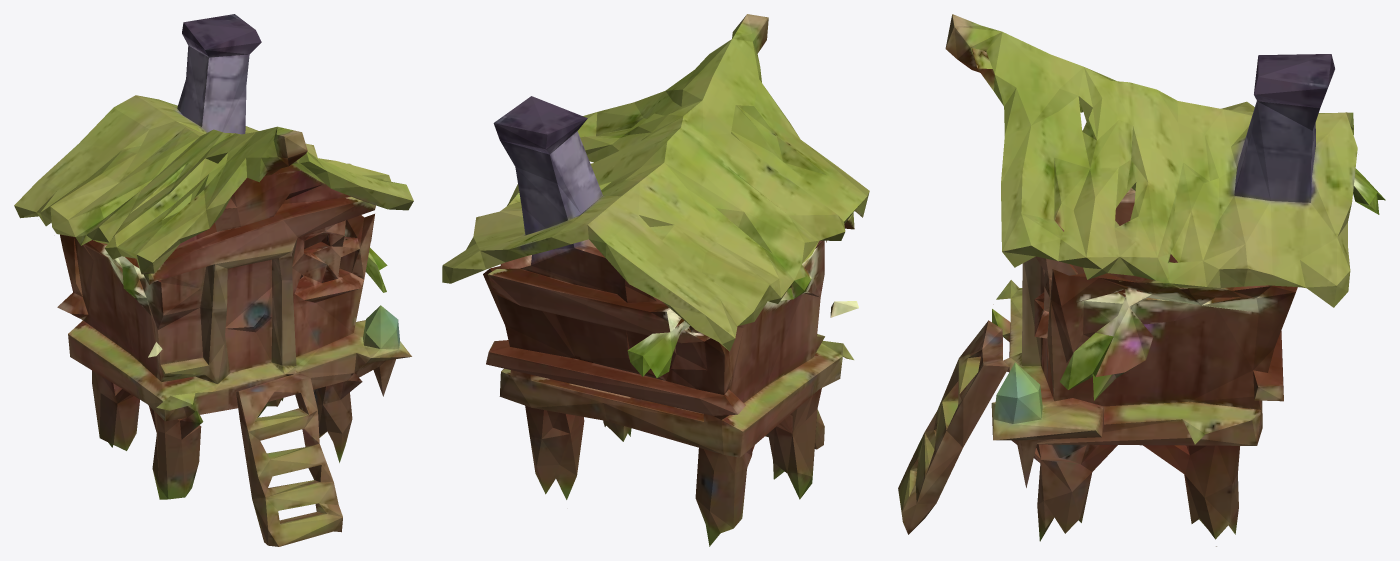
Rendered from hag-hut.glb.
3 renders of one model, left to right at view 1: azimuth 30°, elevation 25°; view 2: azimuth 150°, elevation 25°; view 3: azimuth 270°, elevation 25°, orthographic. The views are drawn at different scales.
Visible parts, largest first — view 1: hag-hut; view 2: hag-hut; view 3: hag-hut.
Part boxes in pixels (<box>): hag-hut: <box>14,14,413,546</box>; hag-hut: <box>442,14,869,546</box>; hag-hut: <box>898,14,1385,546</box>.
Size of the model in its own units: 4.5 by 5.93 by 5.28.
1 material, 1 textured.
